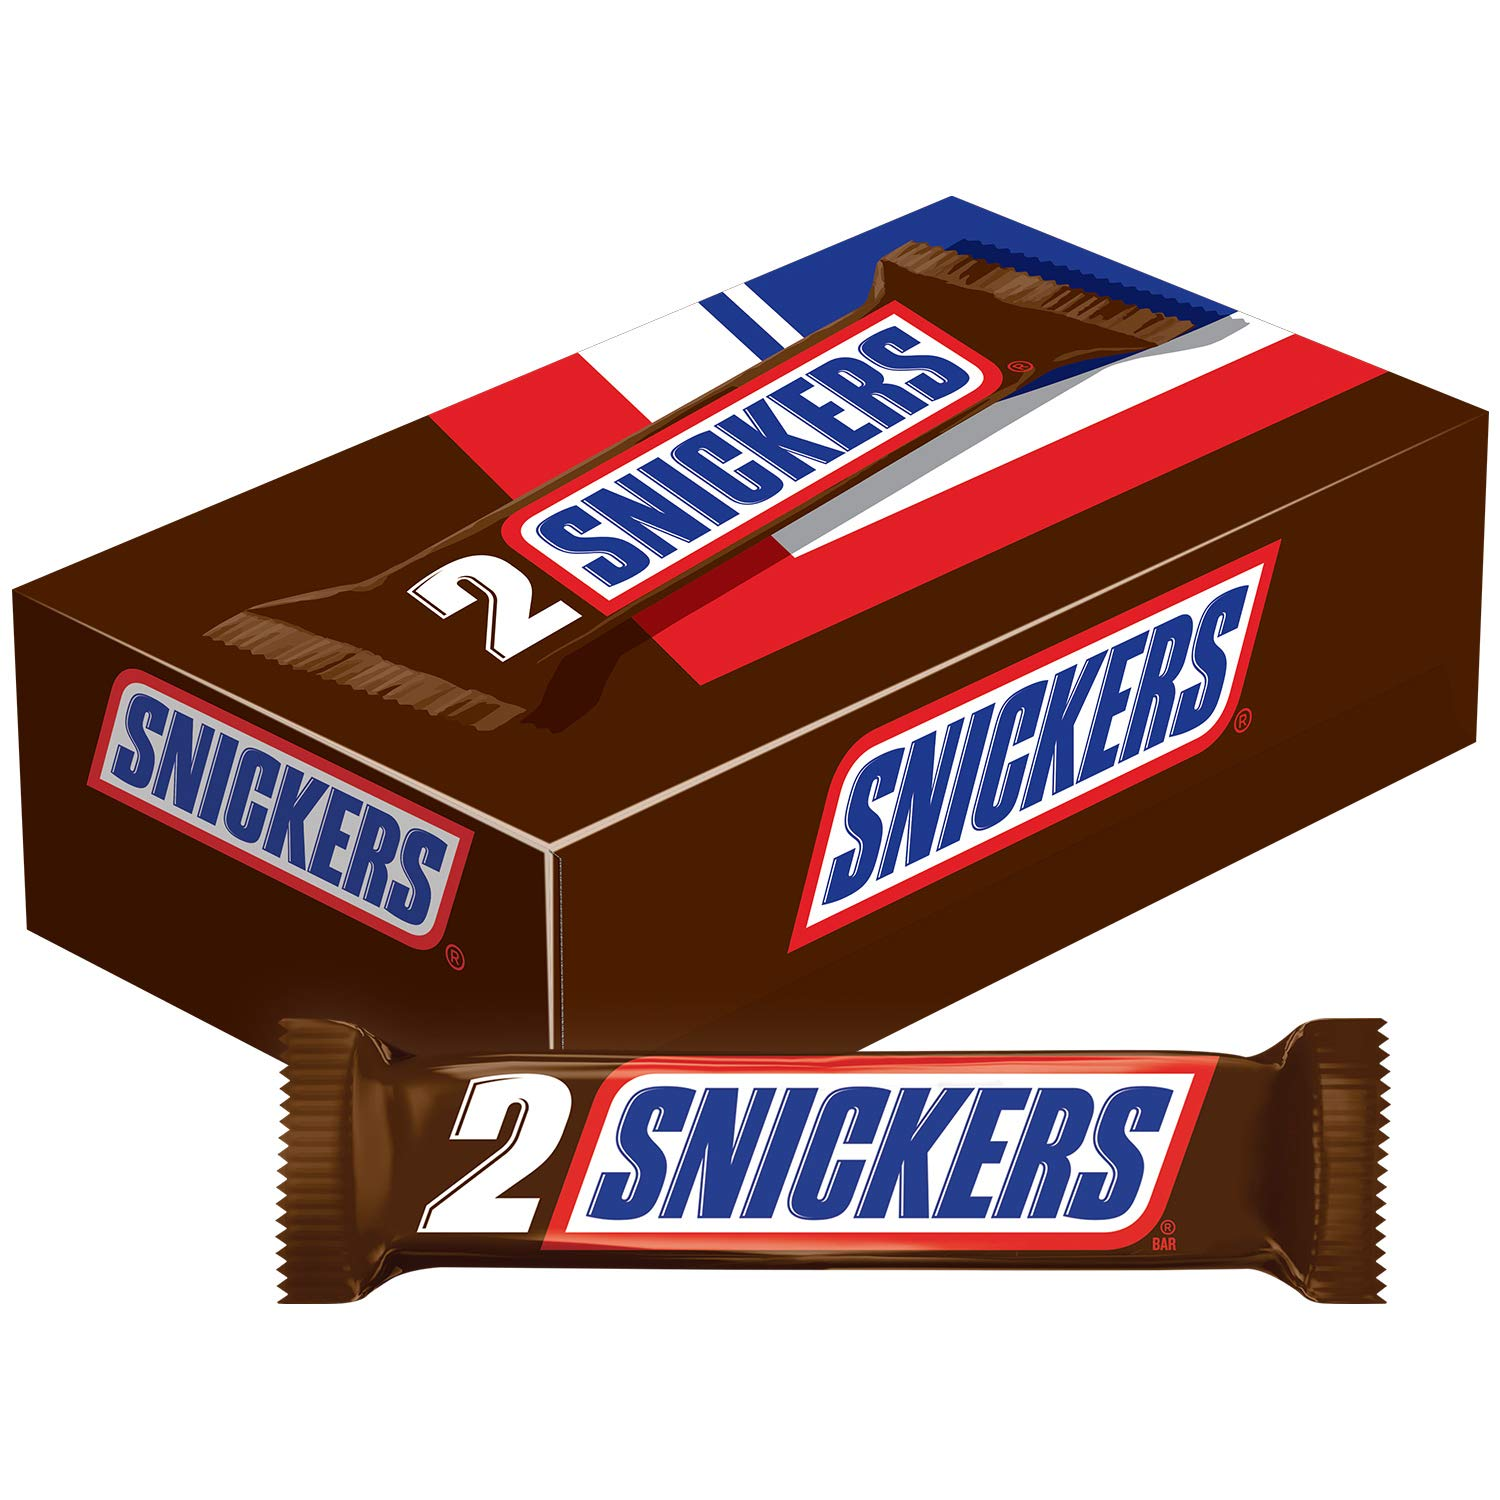snickers: (265, 1005, 1396, 1321)
